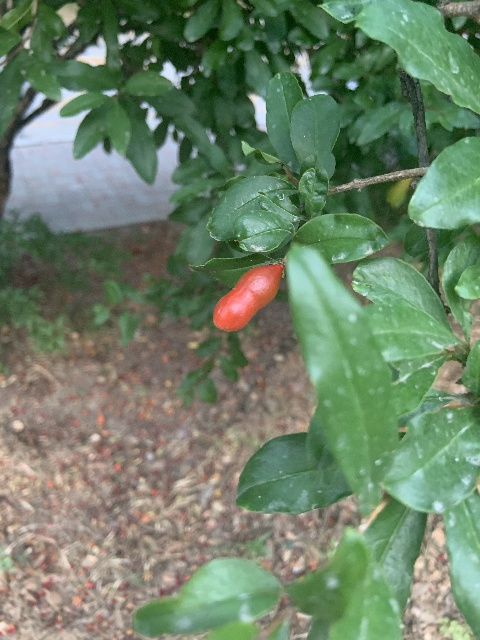bud: (213, 263, 283, 332)
